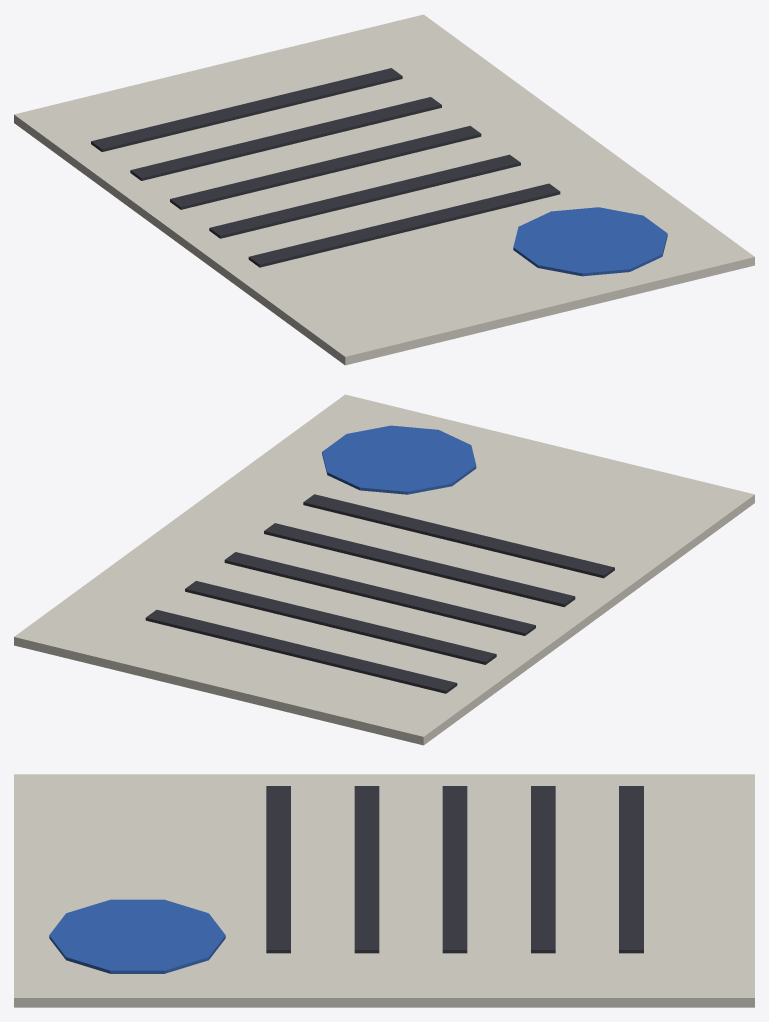
The model's file is fake_invoice.glb.
The picture shows the model from 3 angles, top to bottom: view 1: azimuth 30°, elevation 25°; view 2: azimuth 150°, elevation 25°; view 3: azimuth 270°, elevation 25°; orthographic projection. The views are drawn at different scales.
Parts seen in each view (by area): view 1: sheet_paper, lines_ink (×5), stamp_stamp_blue; view 2: sheet_paper, lines_ink (×5), stamp_stamp_blue; view 3: sheet_paper, lines_ink (×5), stamp_stamp_blue.
Part boxes in pixels (left/top/right/bottom): sheet_paper: left=14, top=14, right=754, bottom=365; lines_ink (×5): left=91, top=68, right=560, bottom=267; stamp_stamp_blue: left=513, top=207, right=667, bottom=276; sheet_paper: left=14, top=394, right=754, bottom=745; lines_ink (×5): left=145, top=494, right=614, bottom=693; stamp_stamp_blue: left=322, top=425, right=476, bottom=494; sheet_paper: left=14, top=774, right=754, bottom=1007; lines_ink (×5): left=266, top=786, right=643, bottom=953; stamp_stamp_blue: left=49, top=899, right=225, bottom=973.
Size of the model in its own units: 0.15 by 0.004 by 0.21.
